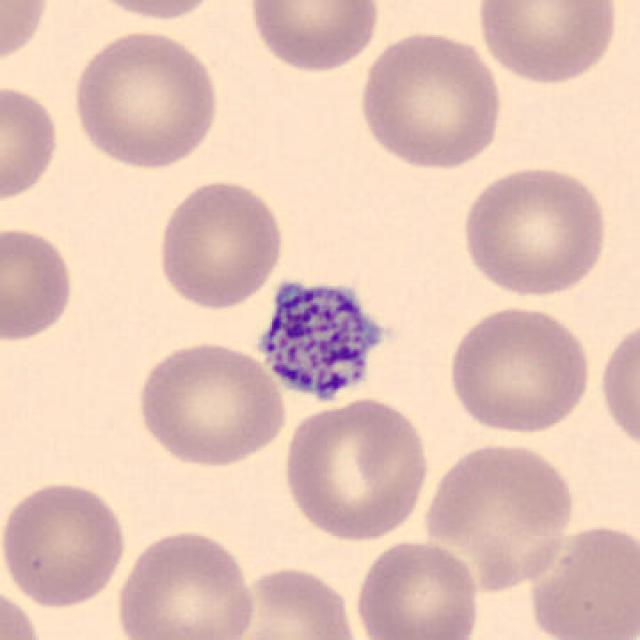Platelets: (249, 268, 396, 411)
RBC: (420, 438, 580, 592), (279, 395, 434, 545), (68, 26, 224, 171), (354, 26, 506, 173), (457, 160, 611, 300), (442, 302, 596, 438), (132, 337, 290, 469), (153, 176, 288, 312), (0, 476, 130, 610), (112, 525, 258, 640), (352, 536, 484, 640), (524, 520, 638, 640), (473, 0, 622, 88), (224, 562, 368, 640), (244, 0, 384, 76), (0, 222, 78, 346), (0, 79, 64, 208), (596, 312, 638, 458), (0, 0, 53, 72), (77, 0, 231, 23), (0, 580, 46, 640)
